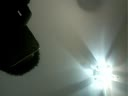window: (5, 3, 126, 95)
